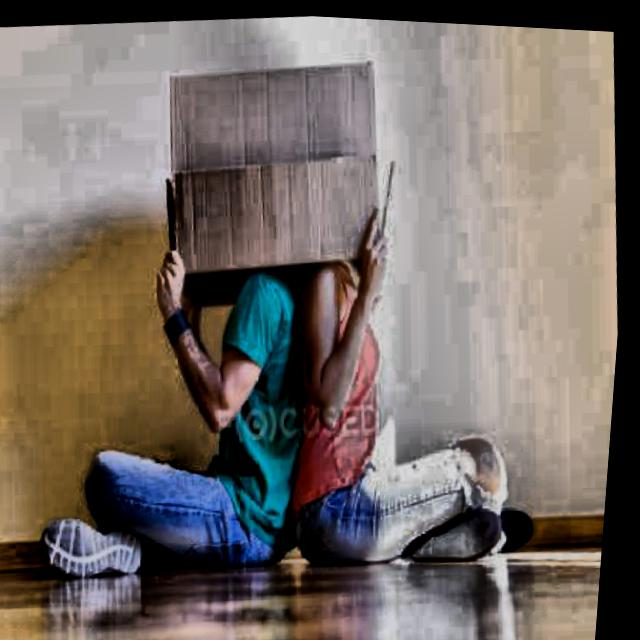Cardbox: (111, 43, 413, 288)
